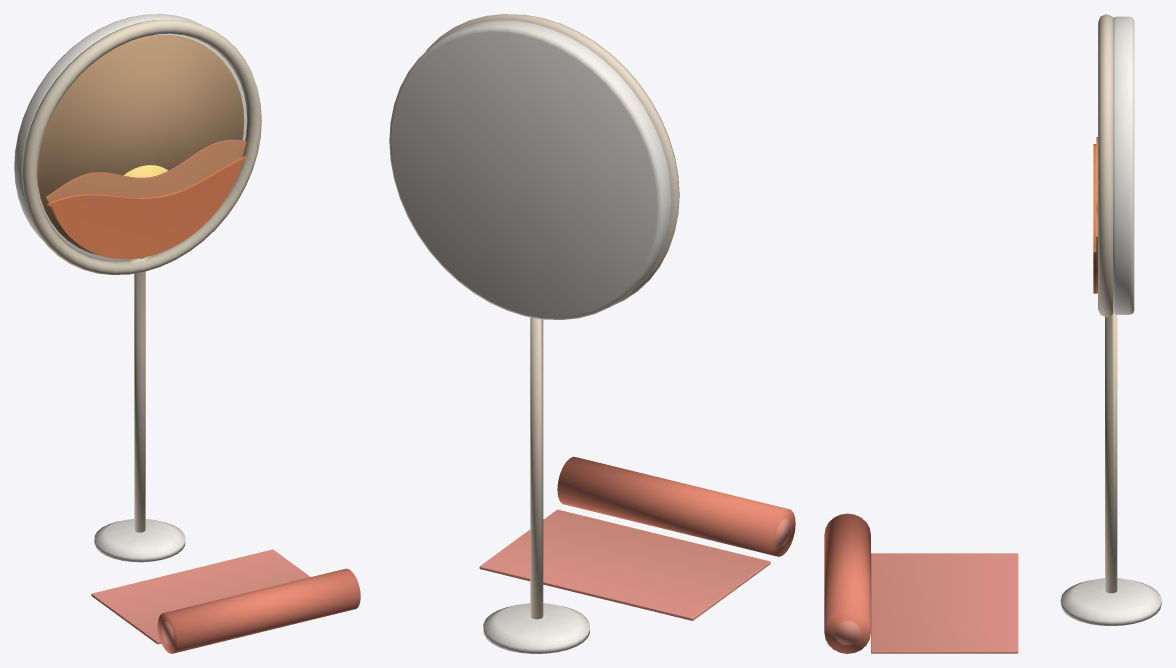
The model's file is sunriseLamp.glb.
3 views of the same model, side by side, from view 1: azimuth 30°, elevation 25°; view 2: azimuth 150°, elevation 25°; view 3: azimuth 270°, elevation 25° (orthographic). The views are drawn at different scales.
Parts seen in each view (by area): view 1: body; view 2: body; view 3: body.
Part boxes in pixels (box(x1,y1,x2,y2)): body: box(14, 14, 360, 653); body: box(389, 14, 795, 653); body: box(824, 14, 1161, 653).
Bounding box in the file's own units: 0.784 × 1.64 × 0.87.
